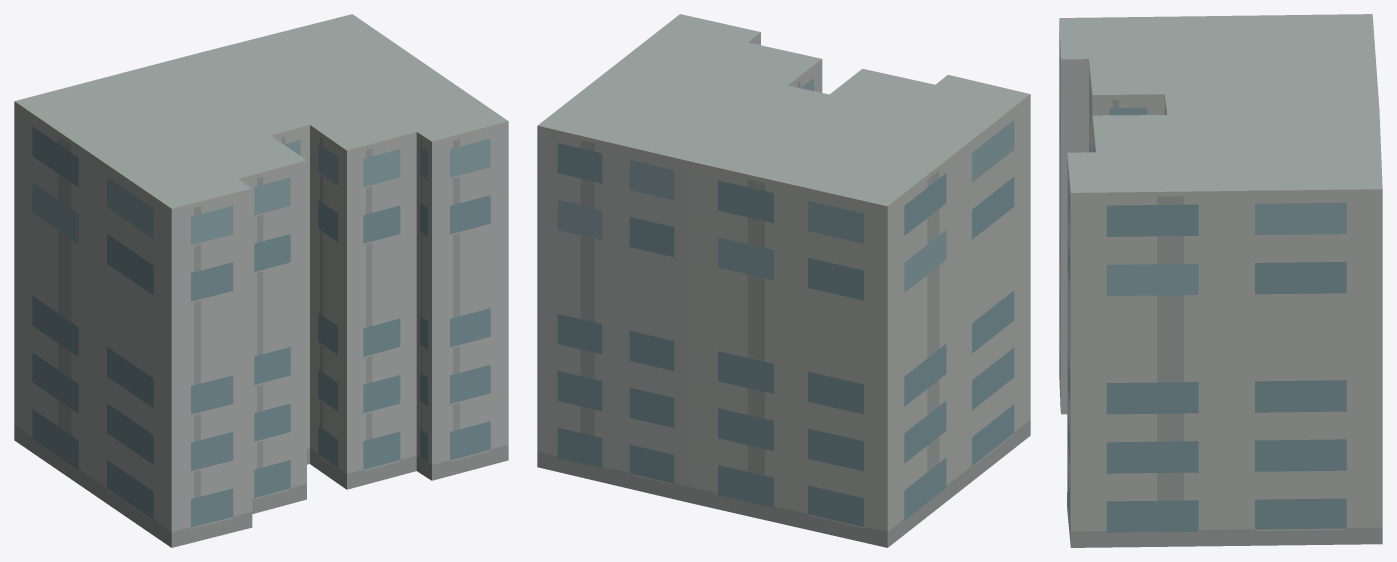
The model's file is survey-upis-32833896.glb.
3 views of the same model, side by side, from view 1: azimuth 30°, elevation 25°; view 2: azimuth 150°, elevation 25°; view 3: azimuth 270°, elevation 25° (orthographic). The views are drawn at different scales.
Parts seen in each view (by area): view 1: survey-upis-32833896.tmp; view 2: survey-upis-32833896.tmp; view 3: survey-upis-32833896.tmp.
Part boxes in pixels (<box>): survey-upis-32833896.tmp: <box>14,14,508,547</box>; survey-upis-32833896.tmp: <box>537,14,1030,547</box>; survey-upis-32833896.tmp: <box>1059,14,1382,547</box>.
Bounding box in the file's own units: 19.26 × 17.81 × 14.71.
